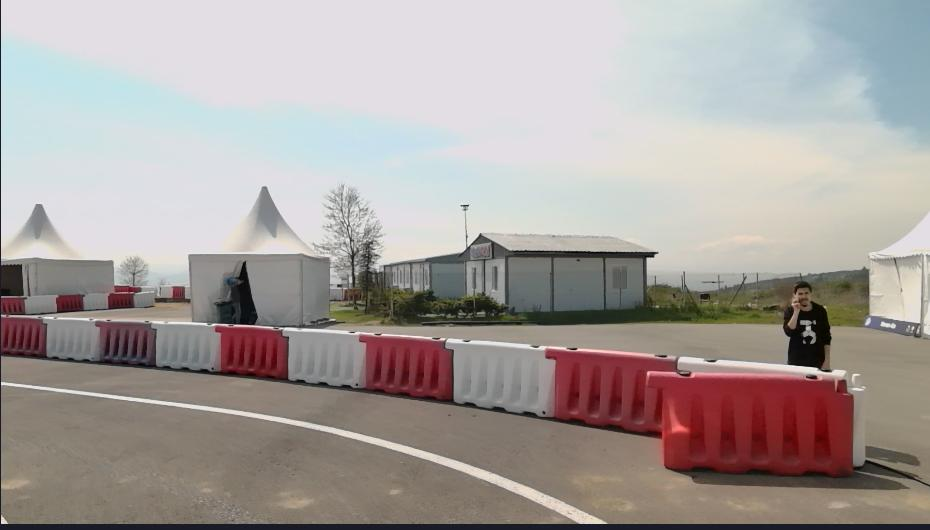nesne: (0, 313, 869, 472), (1, 380, 615, 526), (0, 381, 609, 522), (544, 347, 853, 475), (676, 357, 867, 472), (444, 338, 556, 420), (362, 332, 455, 403), (281, 326, 365, 388), (779, 278, 835, 370), (214, 324, 288, 383), (150, 320, 220, 372), (0, 292, 155, 314), (94, 318, 155, 366), (42, 315, 101, 359), (0, 316, 47, 359), (25, 293, 58, 314), (56, 291, 82, 312), (141, 284, 174, 300), (1, 295, 25, 315), (82, 293, 108, 311), (107, 293, 133, 308), (133, 290, 155, 307), (110, 284, 141, 293), (175, 285, 189, 301)
